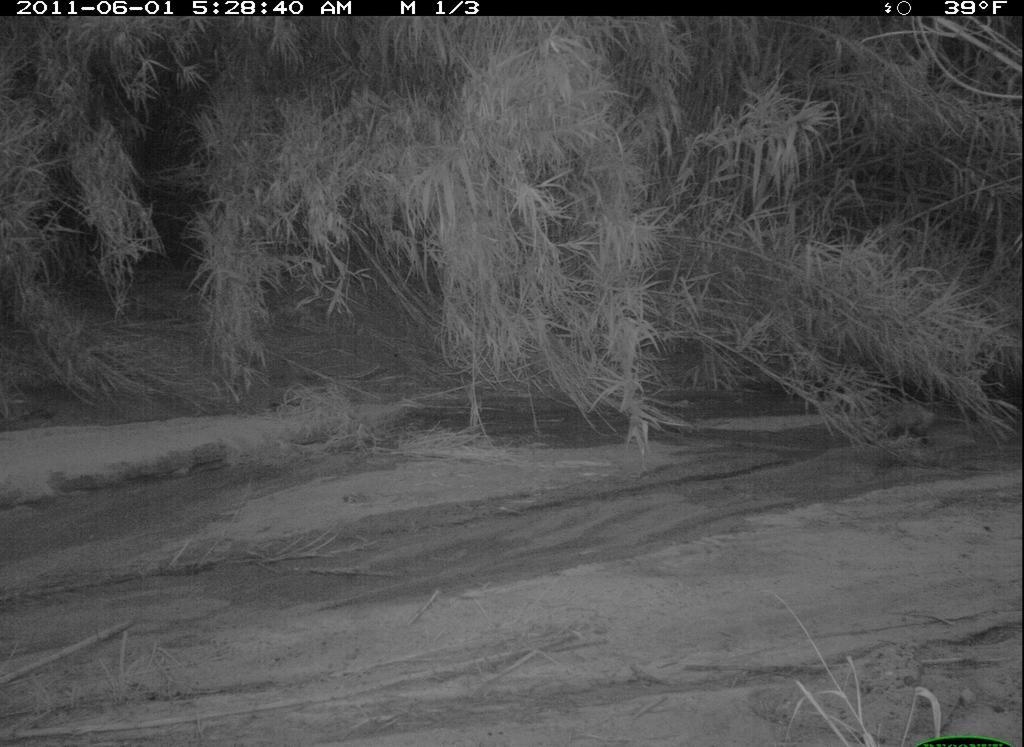opossum: (856, 394, 966, 454)
